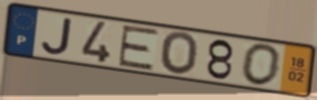4: (79, 20, 113, 65)
8: (206, 38, 234, 81)
E: (116, 24, 162, 72)
J: (40, 16, 75, 57)
O: (241, 42, 284, 88), (159, 30, 201, 77)
